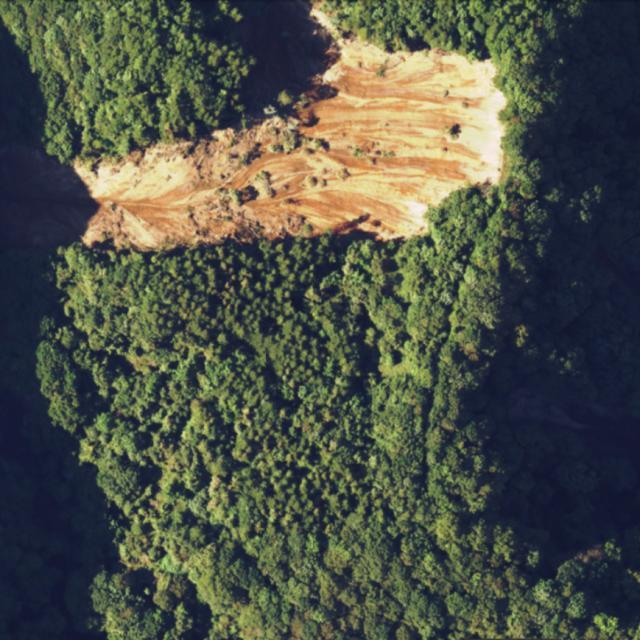landslide: (74, 0, 507, 249)
